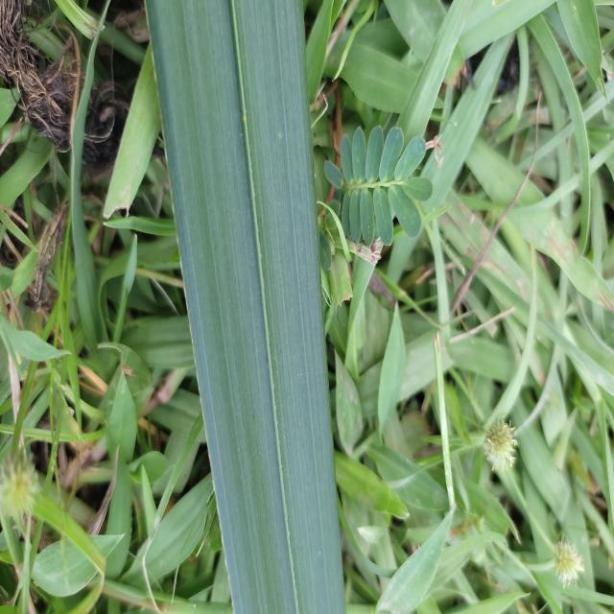Healthy: (144, 1, 352, 614)
